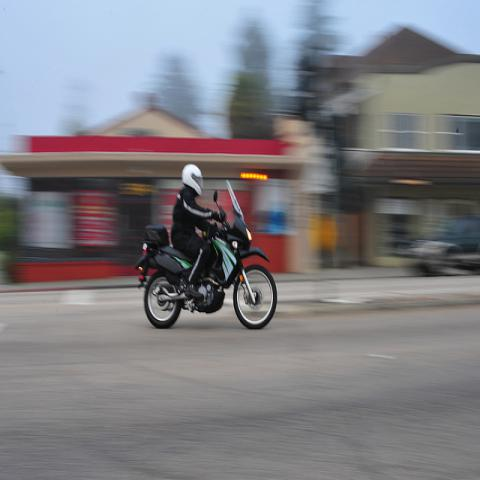car: (412, 214, 480, 277)
motorcycle: (136, 179, 277, 329)
